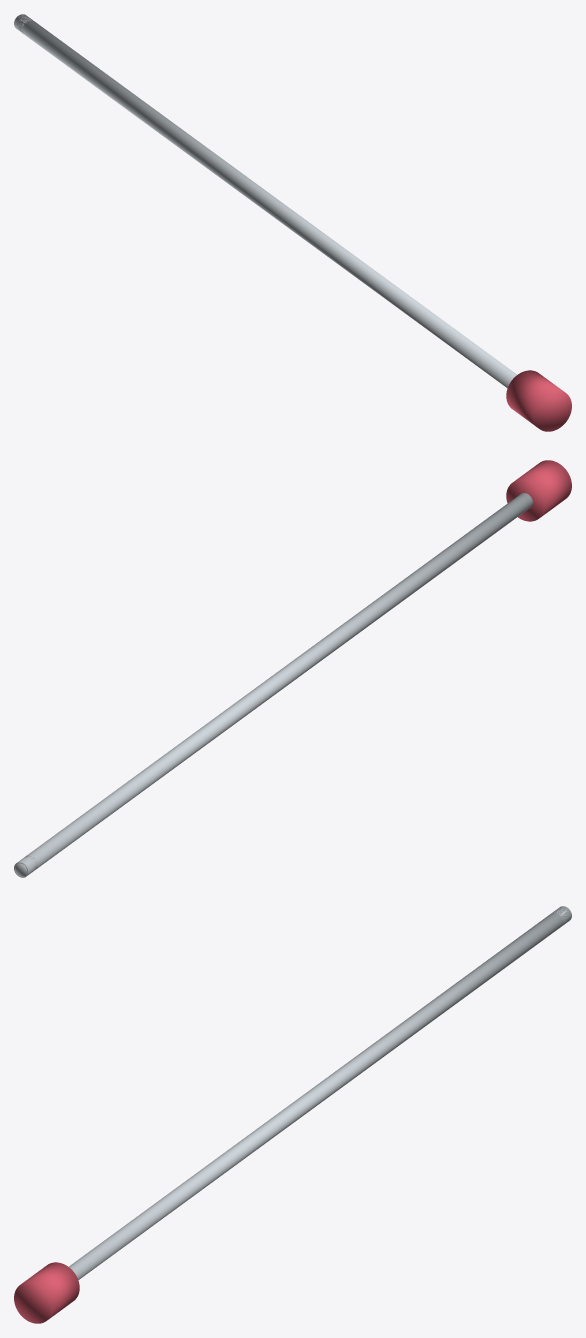
The model's file is generic-stent-introducer-proxy-5f7d2644d4a6.glb.
The picture shows the model from 3 angles, top to bottom: view 1: azimuth 30°, elevation 25°; view 2: azimuth 150°, elevation 25°; view 3: azimuth 330°, elevation 25°; orthographic projection.
Visible parts, largest first — view 1: Stent_Introducer_Hollow_Shaft, Stent_Introducer_Proximal_Collar; view 2: Stent_Introducer_Hollow_Shaft, Stent_Introducer_Proximal_Collar; view 3: Stent_Introducer_Hollow_Shaft, Stent_Introducer_Proximal_Collar.
Part boxes in pixels (x1,y1,x2,y2): Stent_Introducer_Hollow_Shaft: (14,14,516,387); Stent_Introducer_Proximal_Collar: (506,370,571,431); Stent_Introducer_Hollow_Shaft: (14,493,532,877); Stent_Introducer_Proximal_Collar: (506,460,571,521); Stent_Introducer_Hollow_Shaft: (69,906,571,1279); Stent_Introducer_Proximal_Collar: (14,1262,79,1323).
Bounding box in the file's own units: 0.02 × 0.02 × 0.474.
